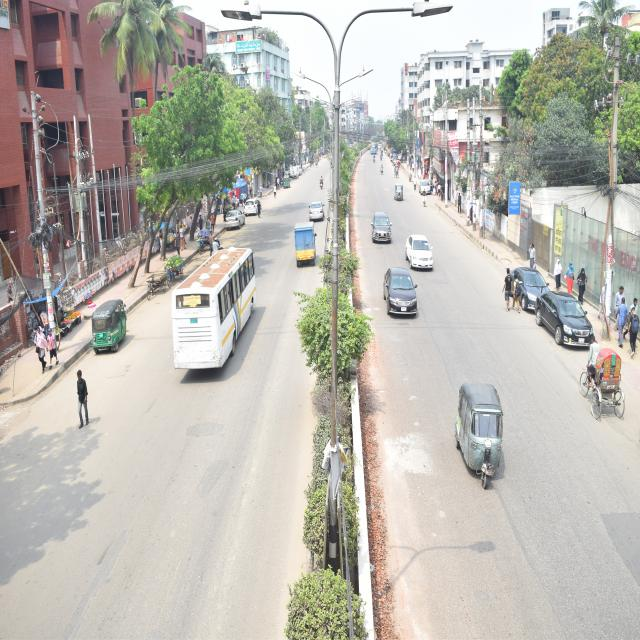bus: (156, 237, 263, 391), (366, 138, 383, 156)
car: (530, 274, 603, 371), (498, 243, 560, 329), (378, 250, 426, 339), (402, 225, 450, 287), (364, 197, 401, 266), (219, 200, 251, 246), (240, 184, 270, 232), (304, 192, 334, 227), (413, 171, 438, 206)
motorbike: (312, 168, 331, 200), (376, 159, 386, 184), (371, 152, 376, 166)
pickup-van: (290, 159, 298, 188)
